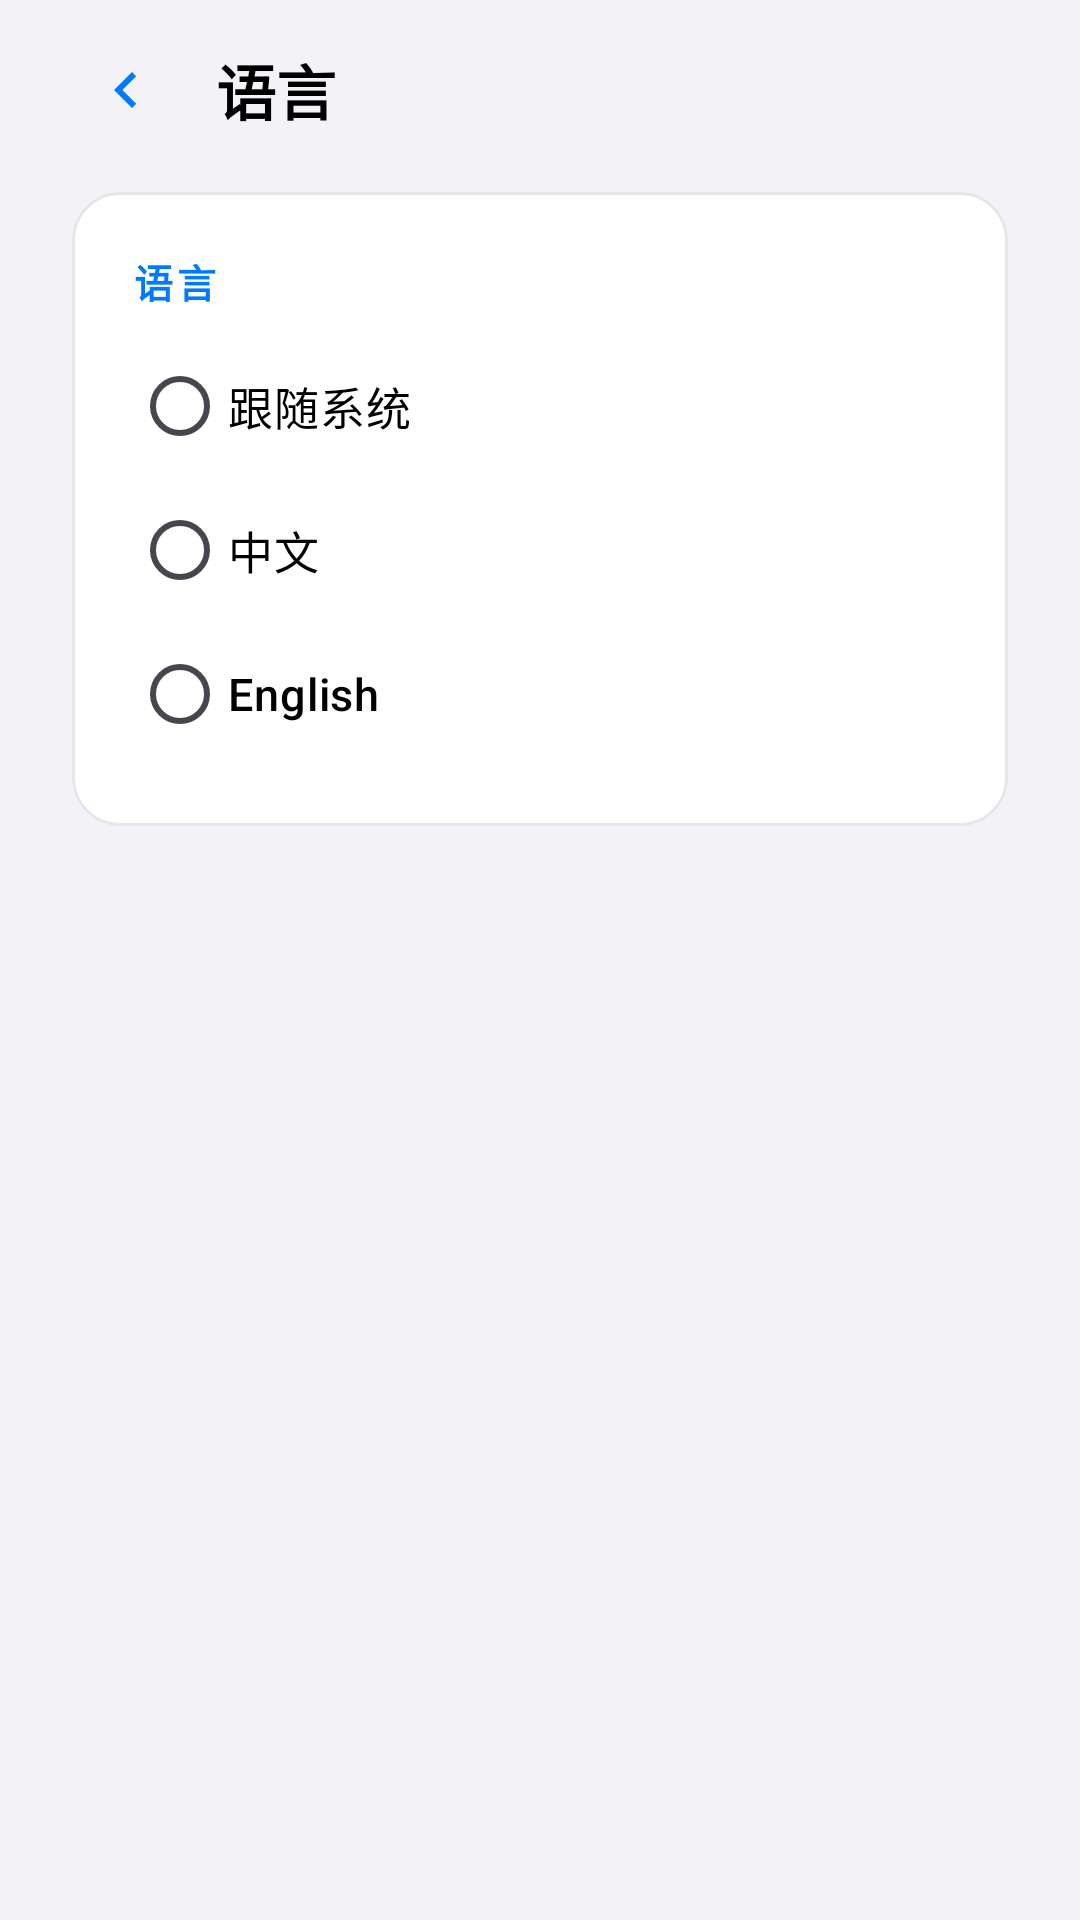

Icons on this 1080×1920 Android screen, each with its box as {"x1": x1, "y1": y1, "x2": x2, "y2": y2}:
返回: {"x1": 114, "y1": 72, "x2": 136, "y2": 108}
